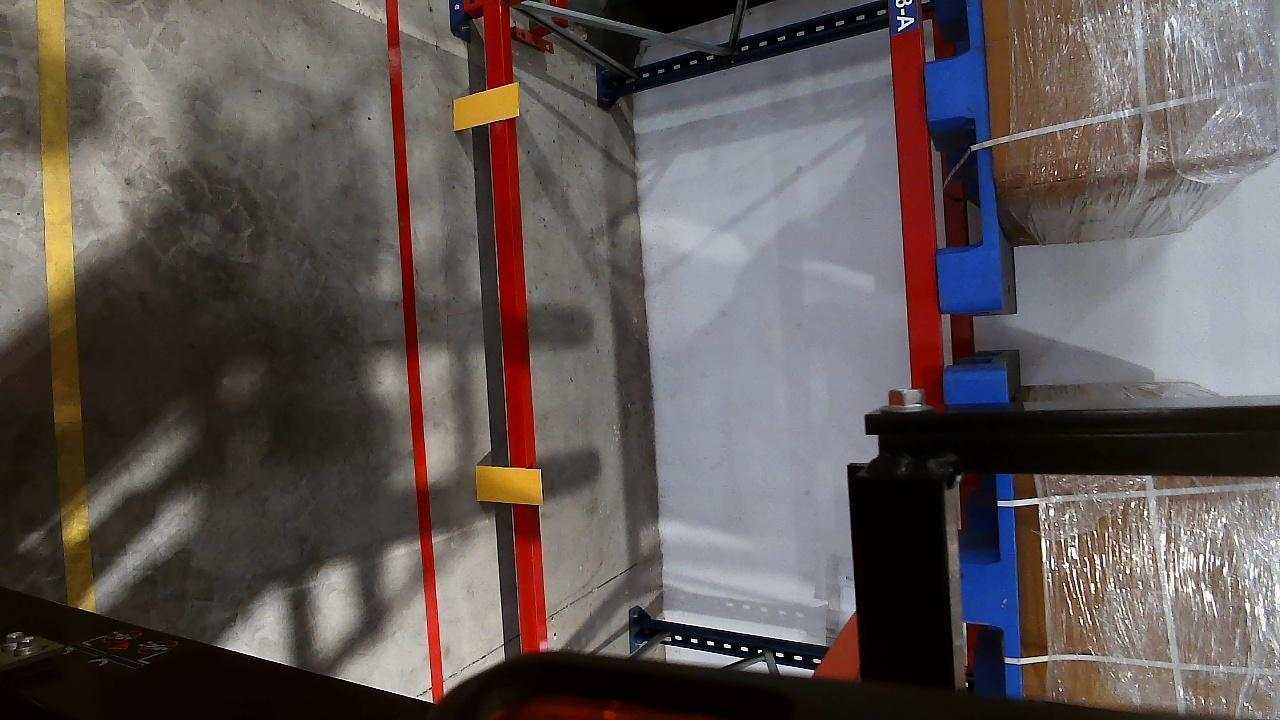red_line: (376, 0, 447, 693)
yellow_line: (23, 0, 104, 606)
